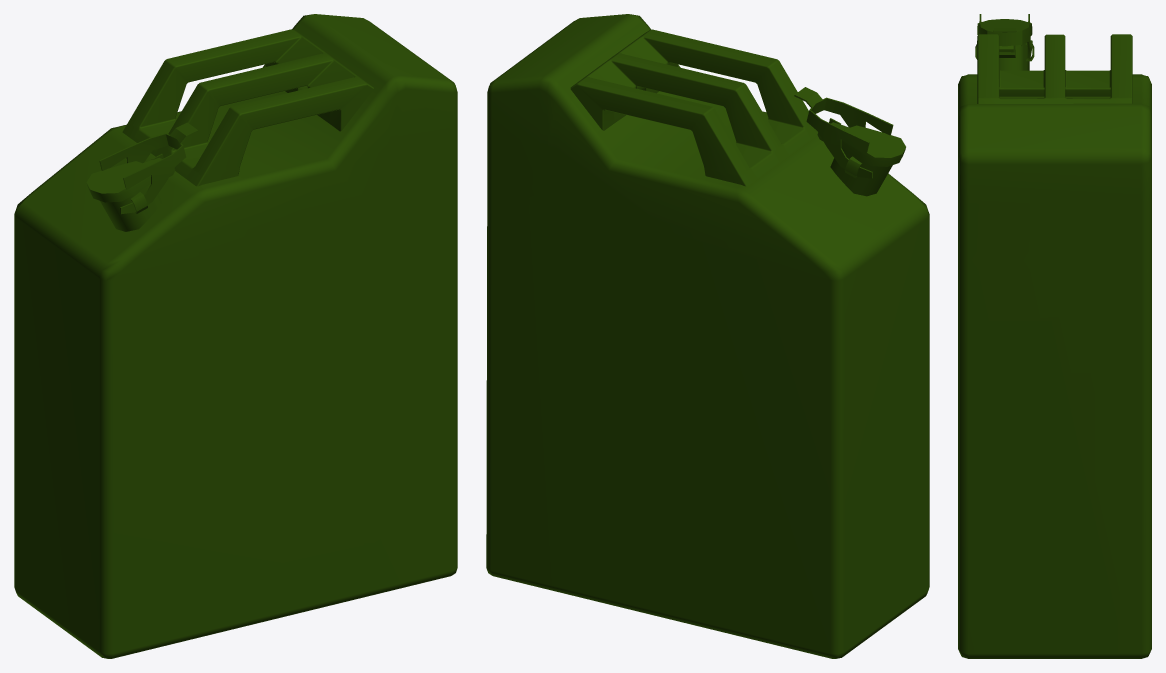
Rendered from fuel tank.dae.
The picture shows the model from 3 angles, left to right: view 1: azimuth 30°, elevation 25°; view 2: azimuth 150°, elevation 25°; view 3: azimuth 270°, elevation 25°; orthographic projection. The views are drawn at different scales.
Visible parts, largest first — view 1: Carnister; view 2: Carnister; view 3: Carnister.
Part boxes in pixels (x1,y1,x2,y2): Carnister: (14,14,457,658); Carnister: (486,14,929,658); Carnister: (958,14,1151,658).
Bounding box in the file's own units: 1.46 × 2 × 0.6667.
